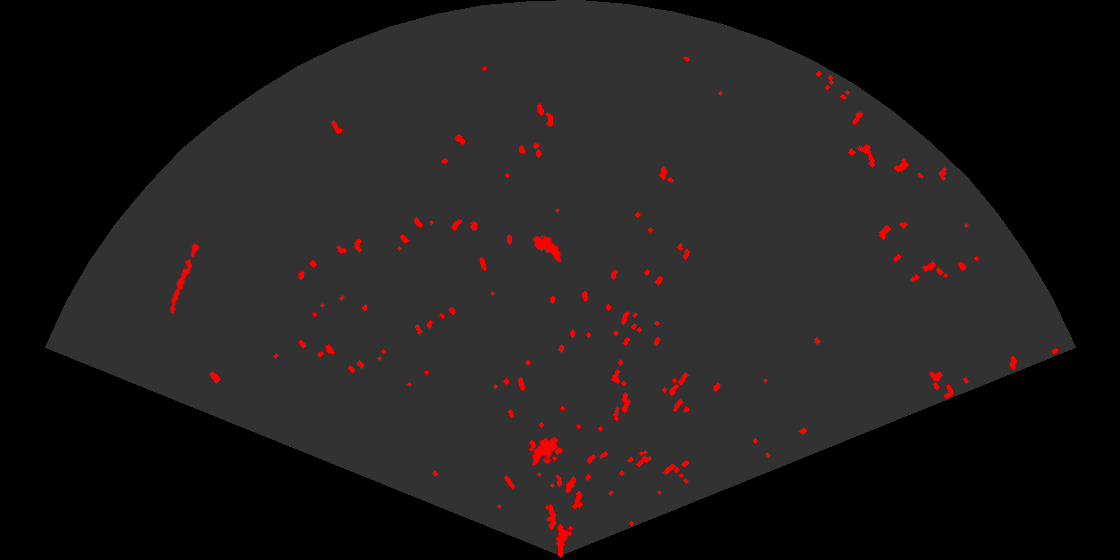AUV: (530, 435, 560, 468), (531, 234, 563, 264)
chain: (168, 236, 202, 316)
